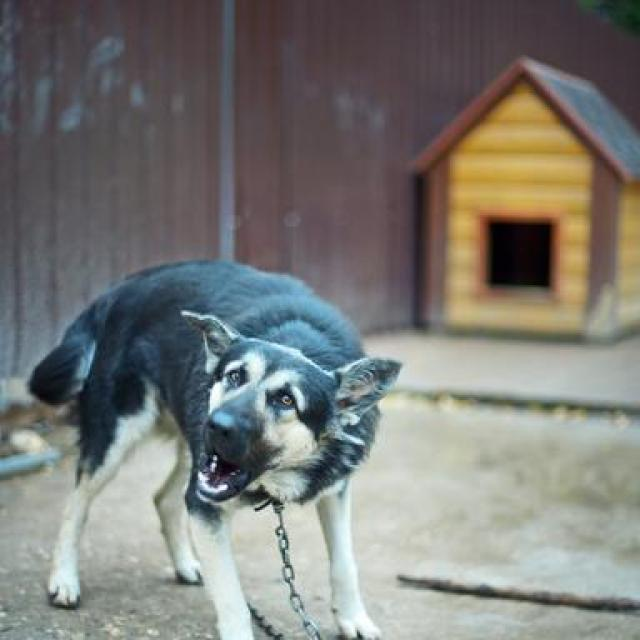angry: (7, 184, 502, 640)
